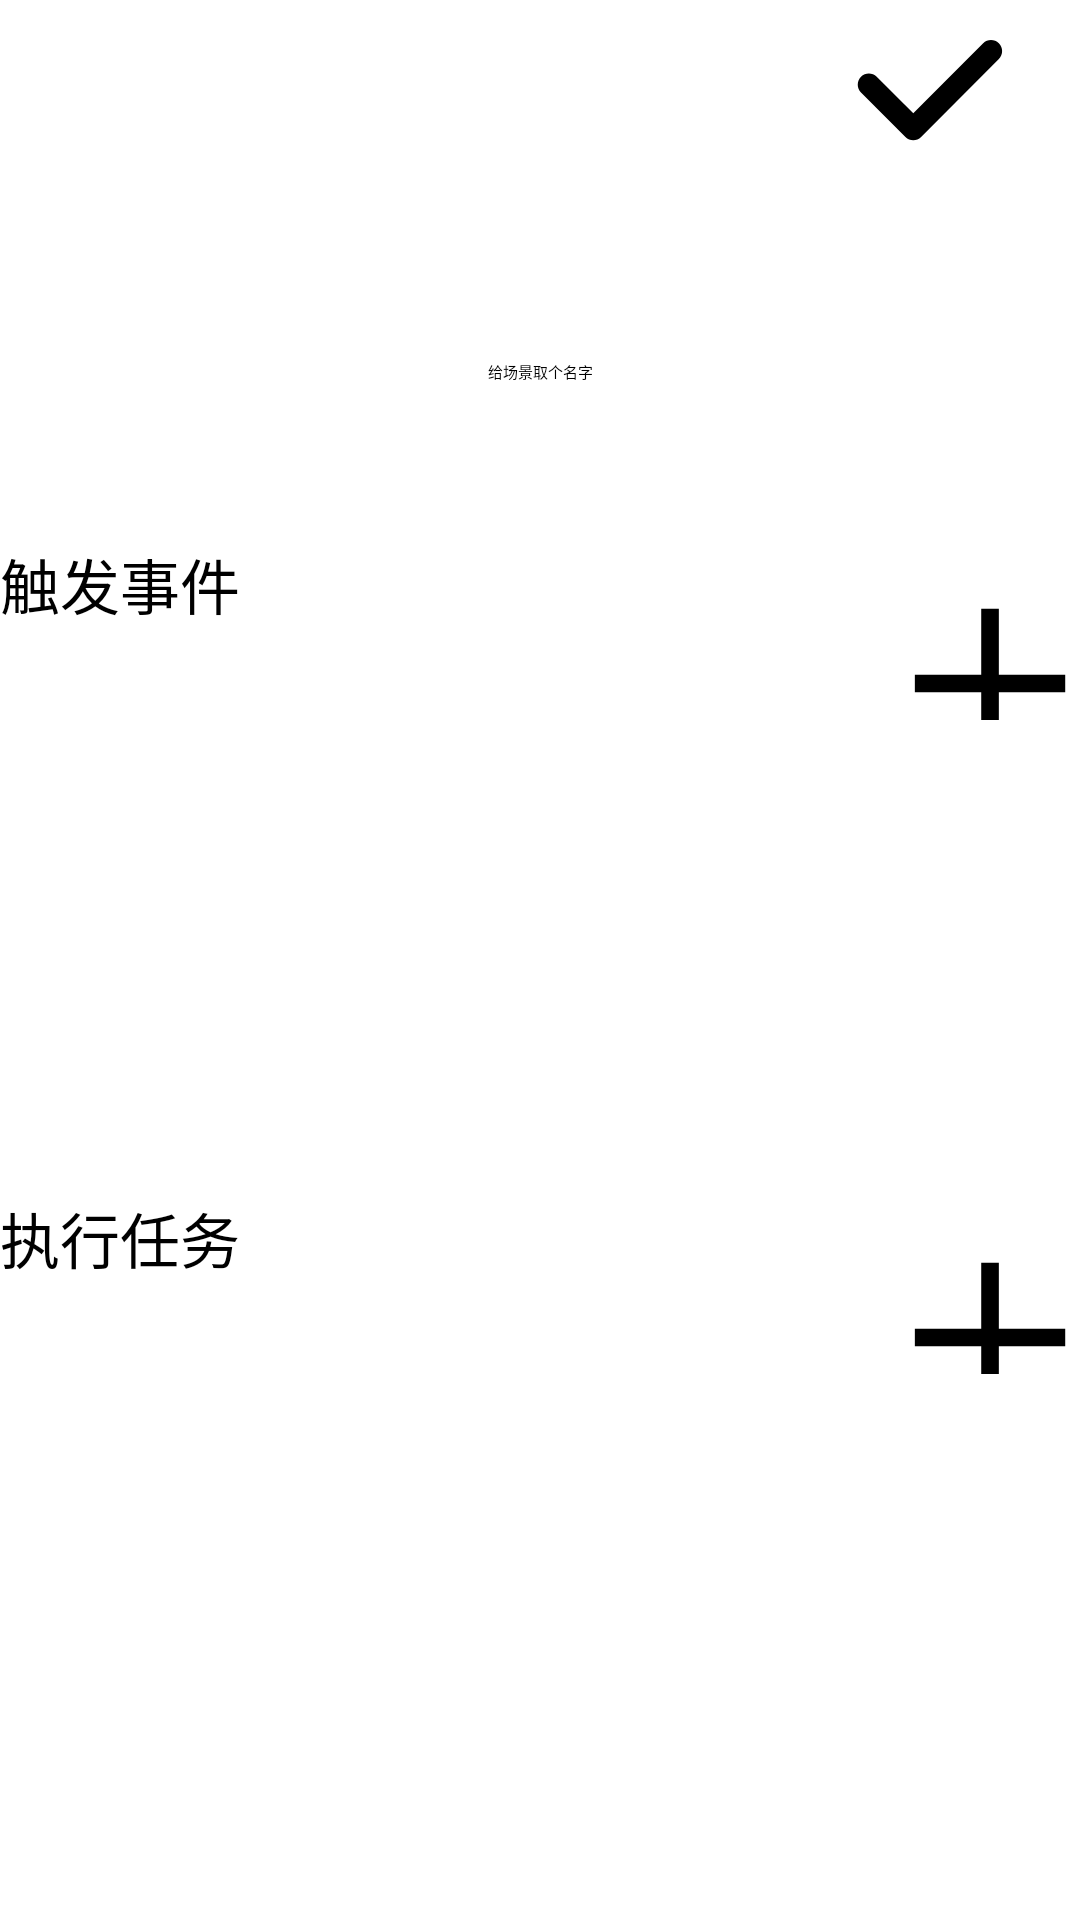

Icon click points for this 1080px x 1920px phone screenshot, format point (x, y):
save: point (929, 90)
